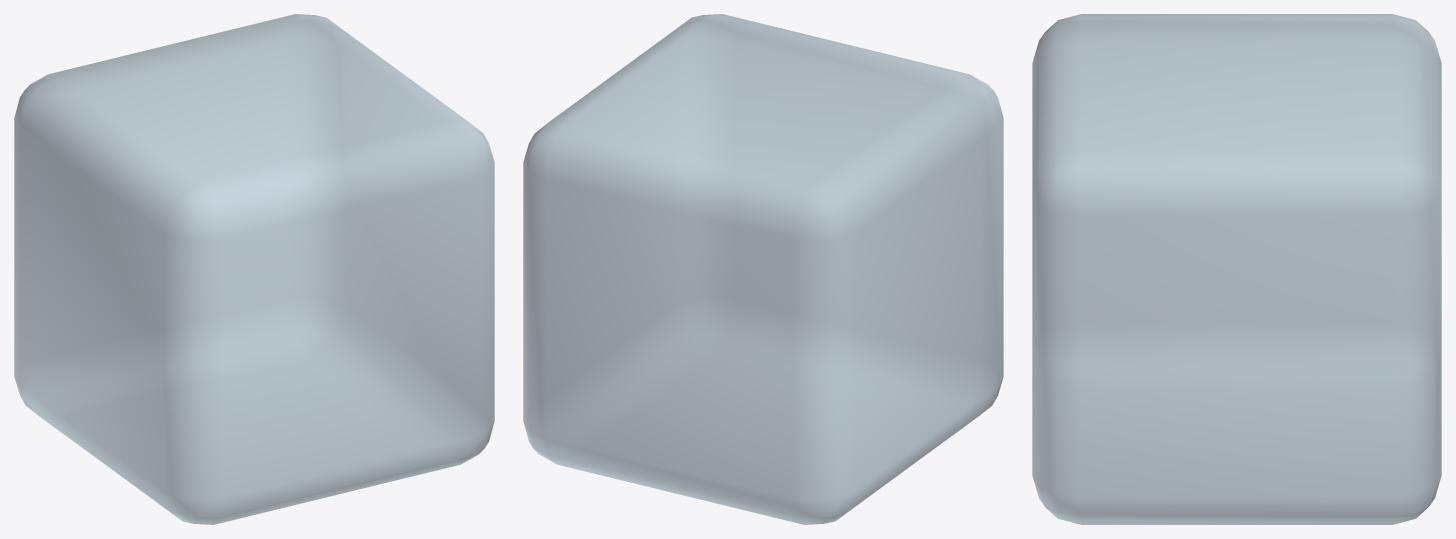
The model's file is ice.fbx.
3 renders of one model, left to right at view 1: azimuth 30°, elevation 25°; view 2: azimuth 150°, elevation 25°; view 3: azimuth 270°, elevation 25°, orthographic. The views are drawn at different scales.
Parts seen in each view (by area): view 1: Cube; view 2: Cube; view 3: Cube.
Part boxes in pixels (x1,y1,x2,y2): Cube: (14, 14, 494, 524); Cube: (523, 14, 1003, 524); Cube: (1032, 14, 1441, 524).
Size of the model in its own units: 50 by 50 by 50.
